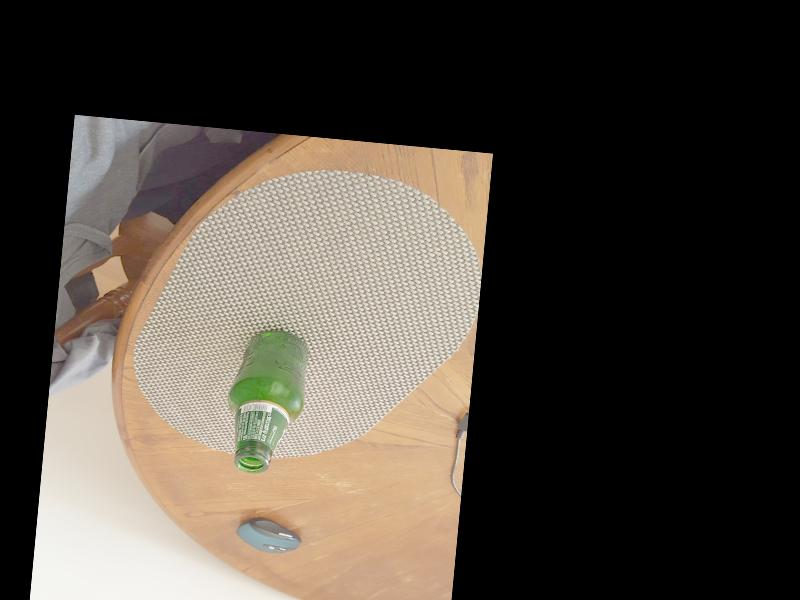Beer: (218, 326, 314, 478)
